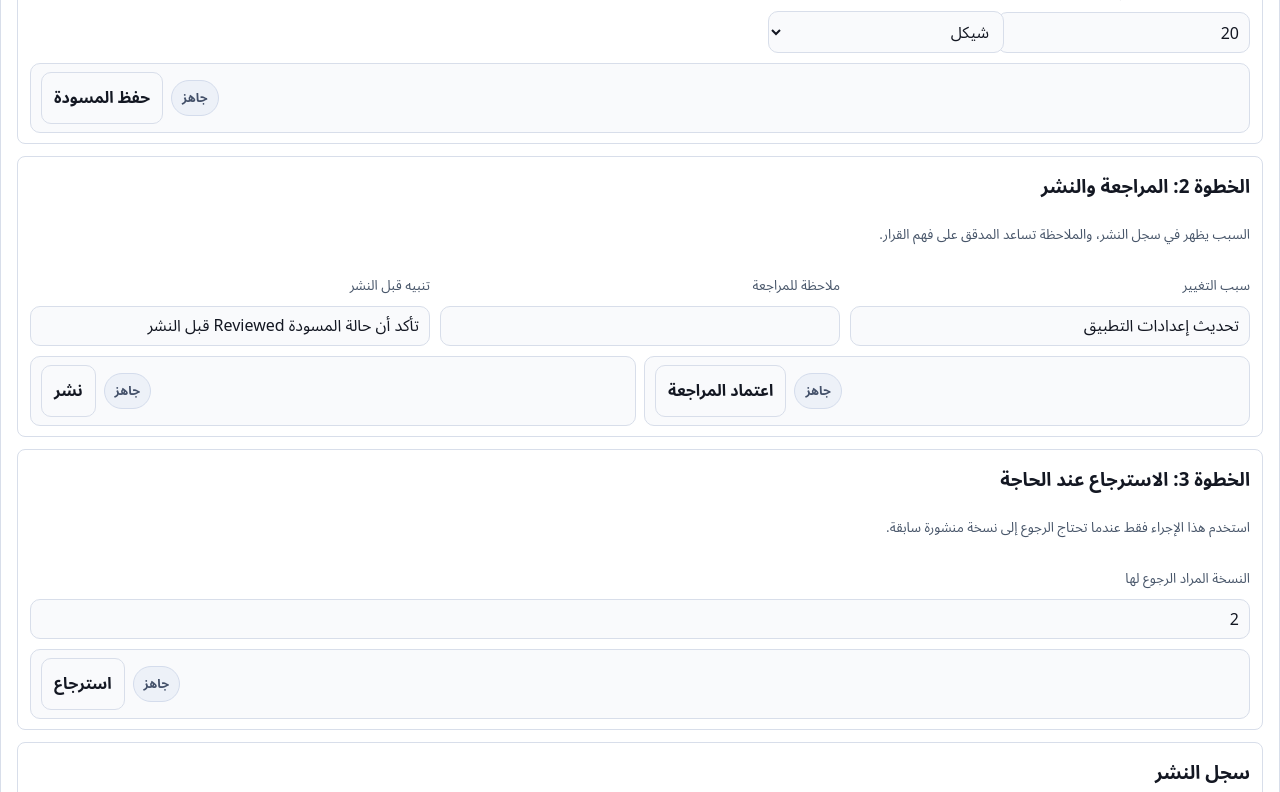
config governance shell › shows conflict runtime state when publish reports expected-state drift
The image size is (1280, 792).
(page scrolled)
Click the button "نشر" at (68, 391), box [41, 365, 96, 417]
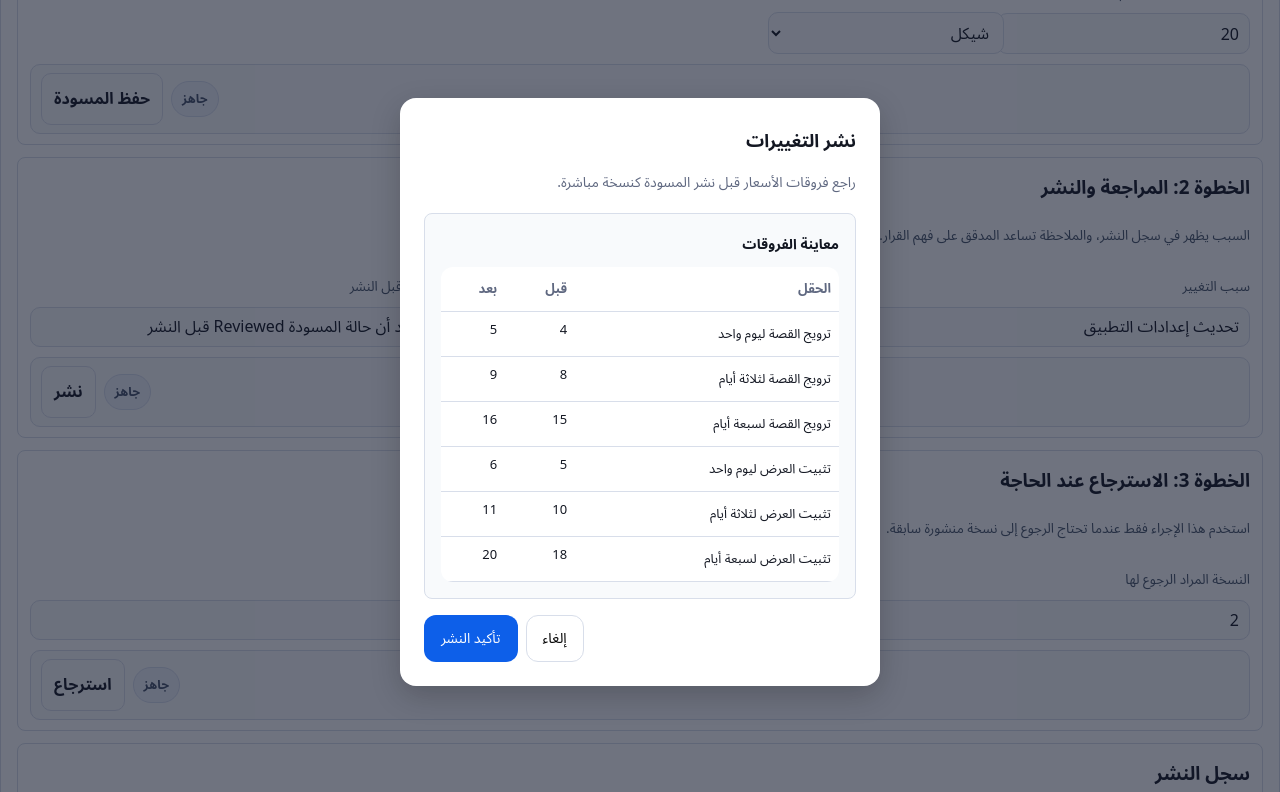
Click the button "تأكيد النشر" at (471, 638), box [424, 615, 518, 662]
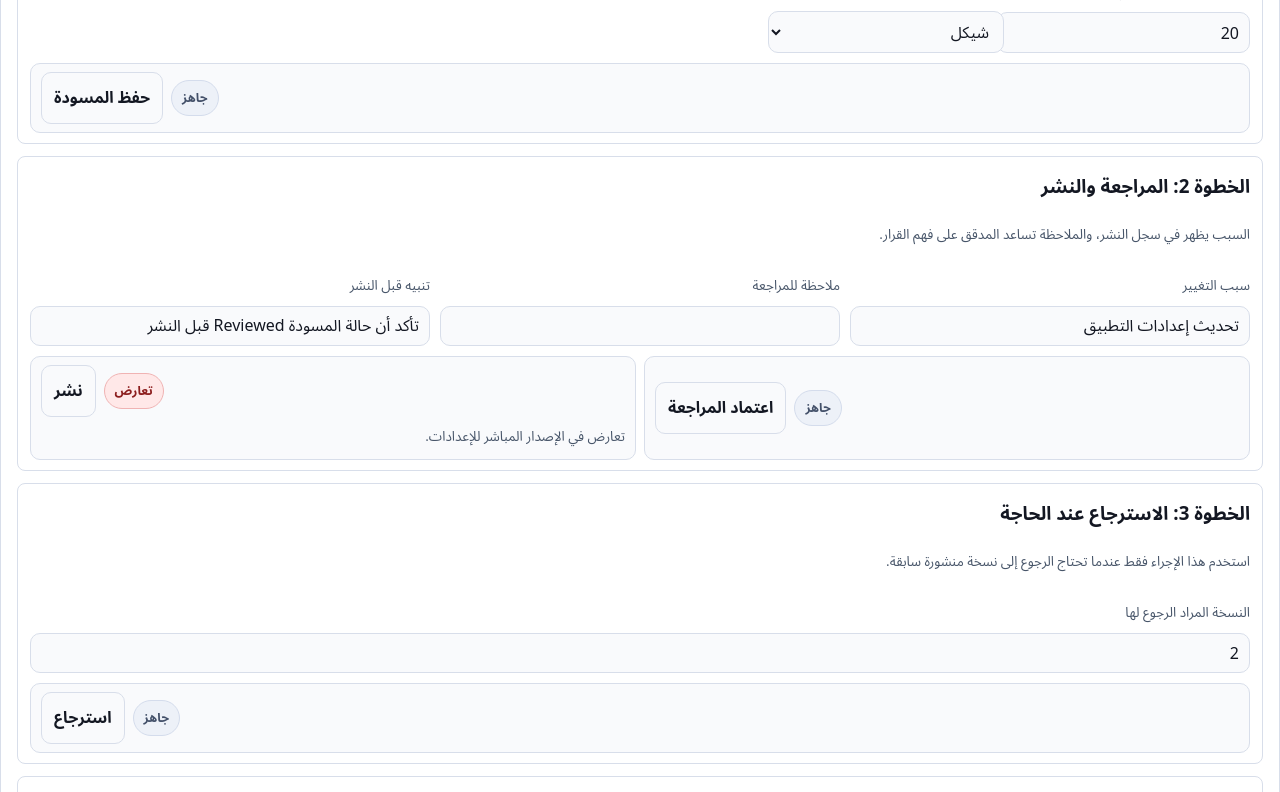
Check: the text with test id "config-command-conflict-message" shows "تعارض في الإصدار المباشر للإعدادات", box [425, 427, 625, 445]
